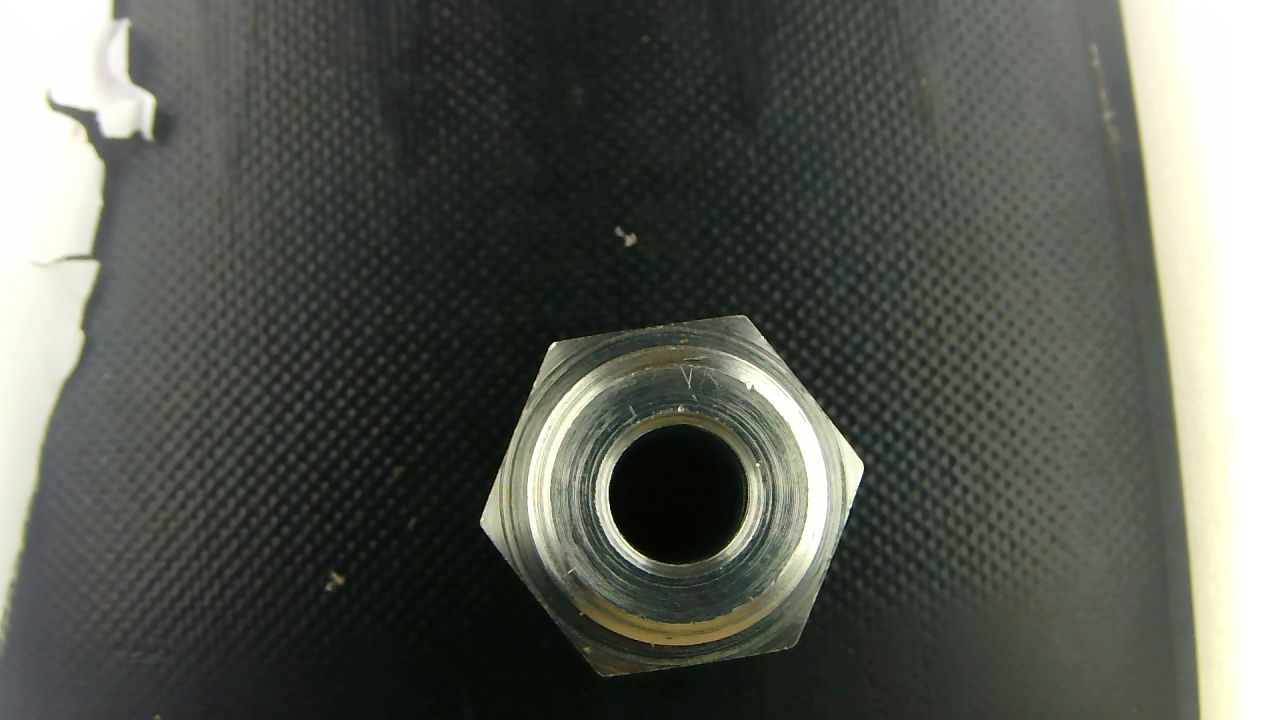okay_adapter: (480, 316, 863, 675)
